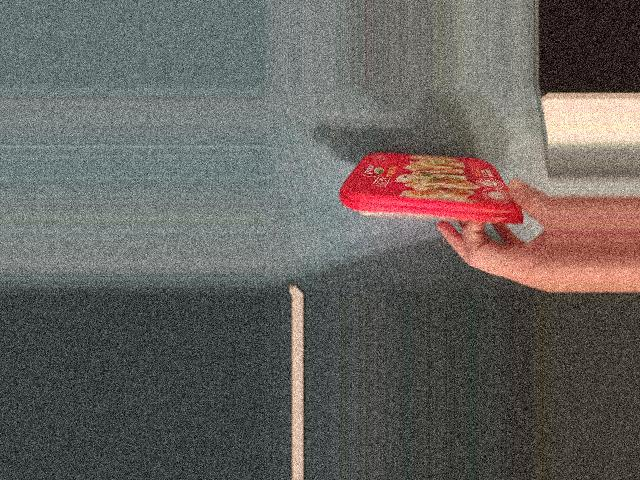cheese: (344, 152, 521, 237)
